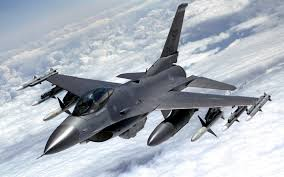fighter: (18, 1, 273, 163)
